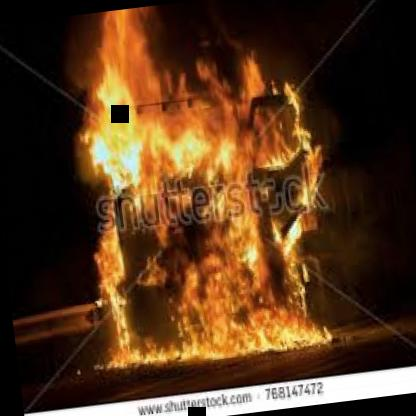fire: (47, 0, 346, 403)
